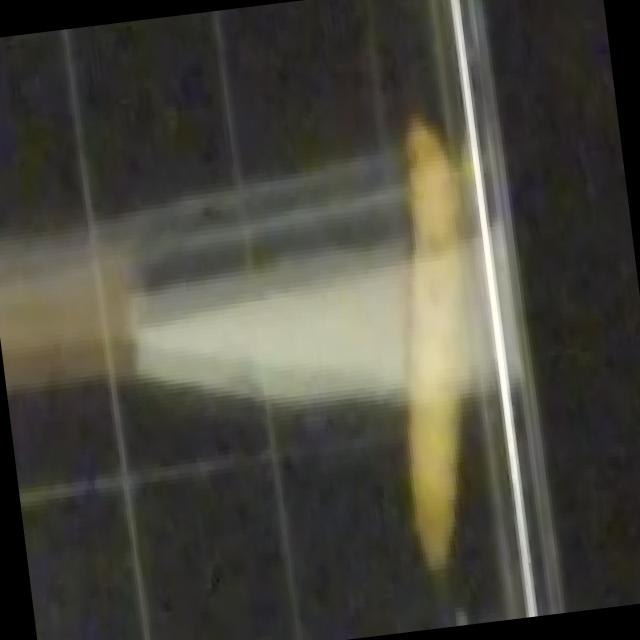larva: (362, 100, 512, 591)
